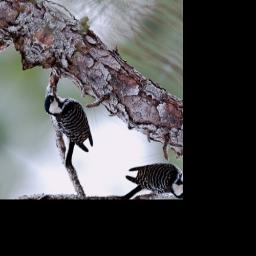Woodpecker: (18, 81, 111, 174)
